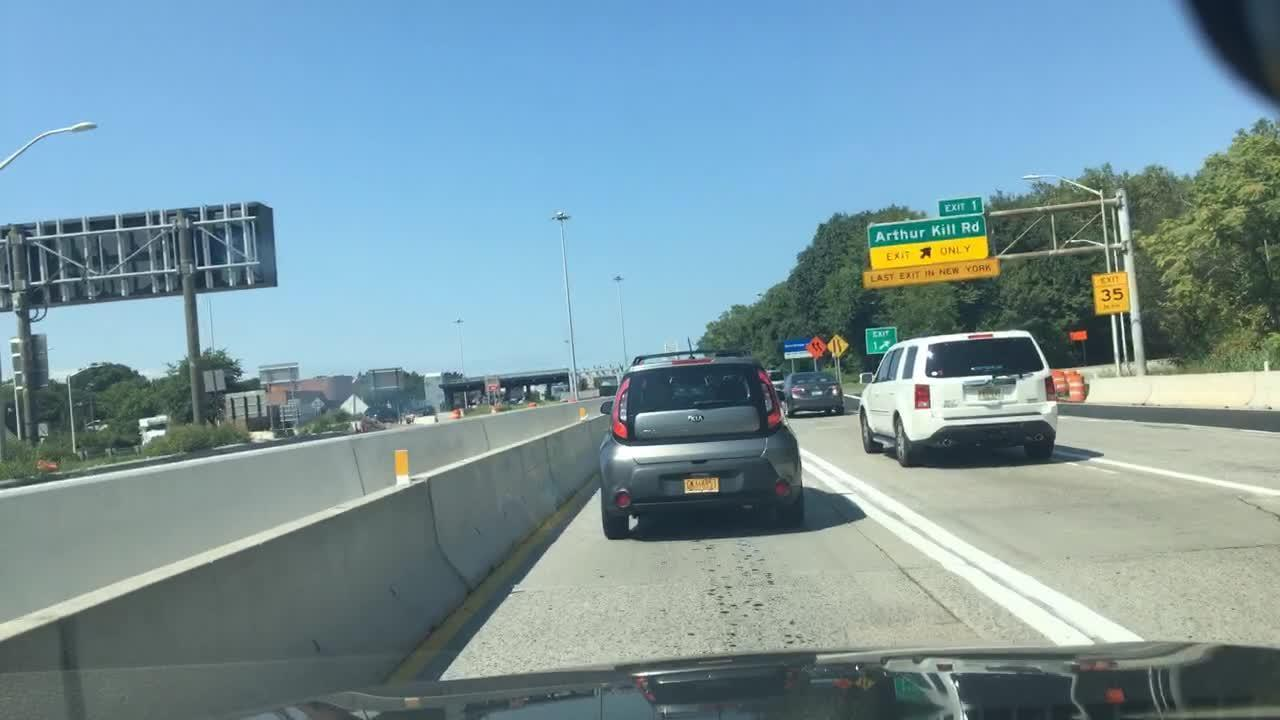kia: (683, 412, 709, 426)
